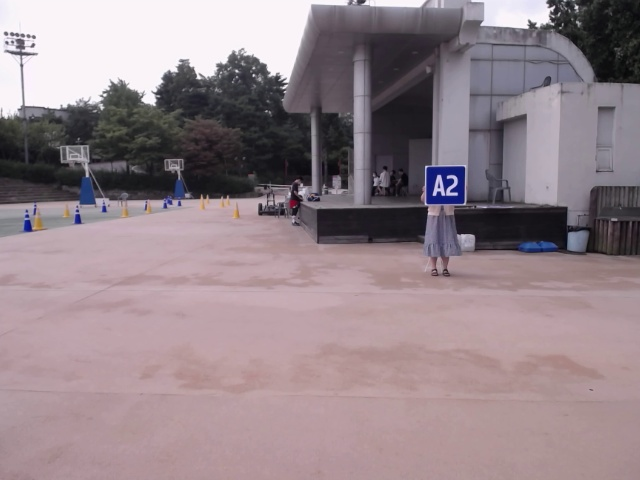delivery_a2: (426, 165, 467, 206)
